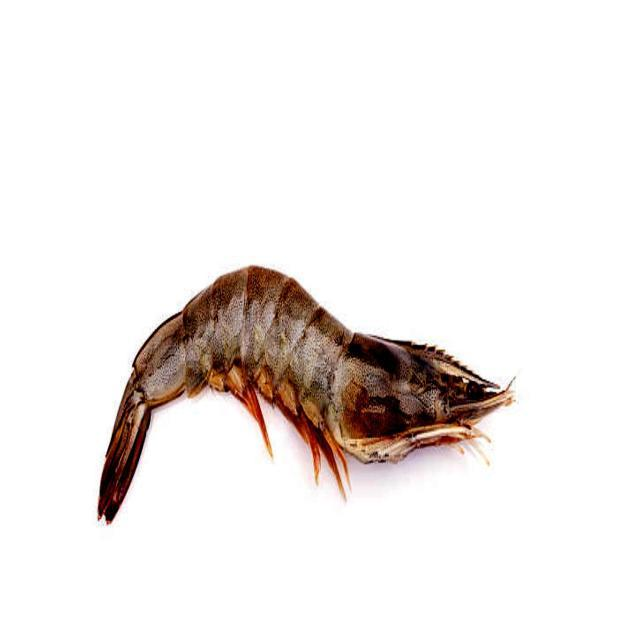shrimp: (99, 268, 511, 520)
